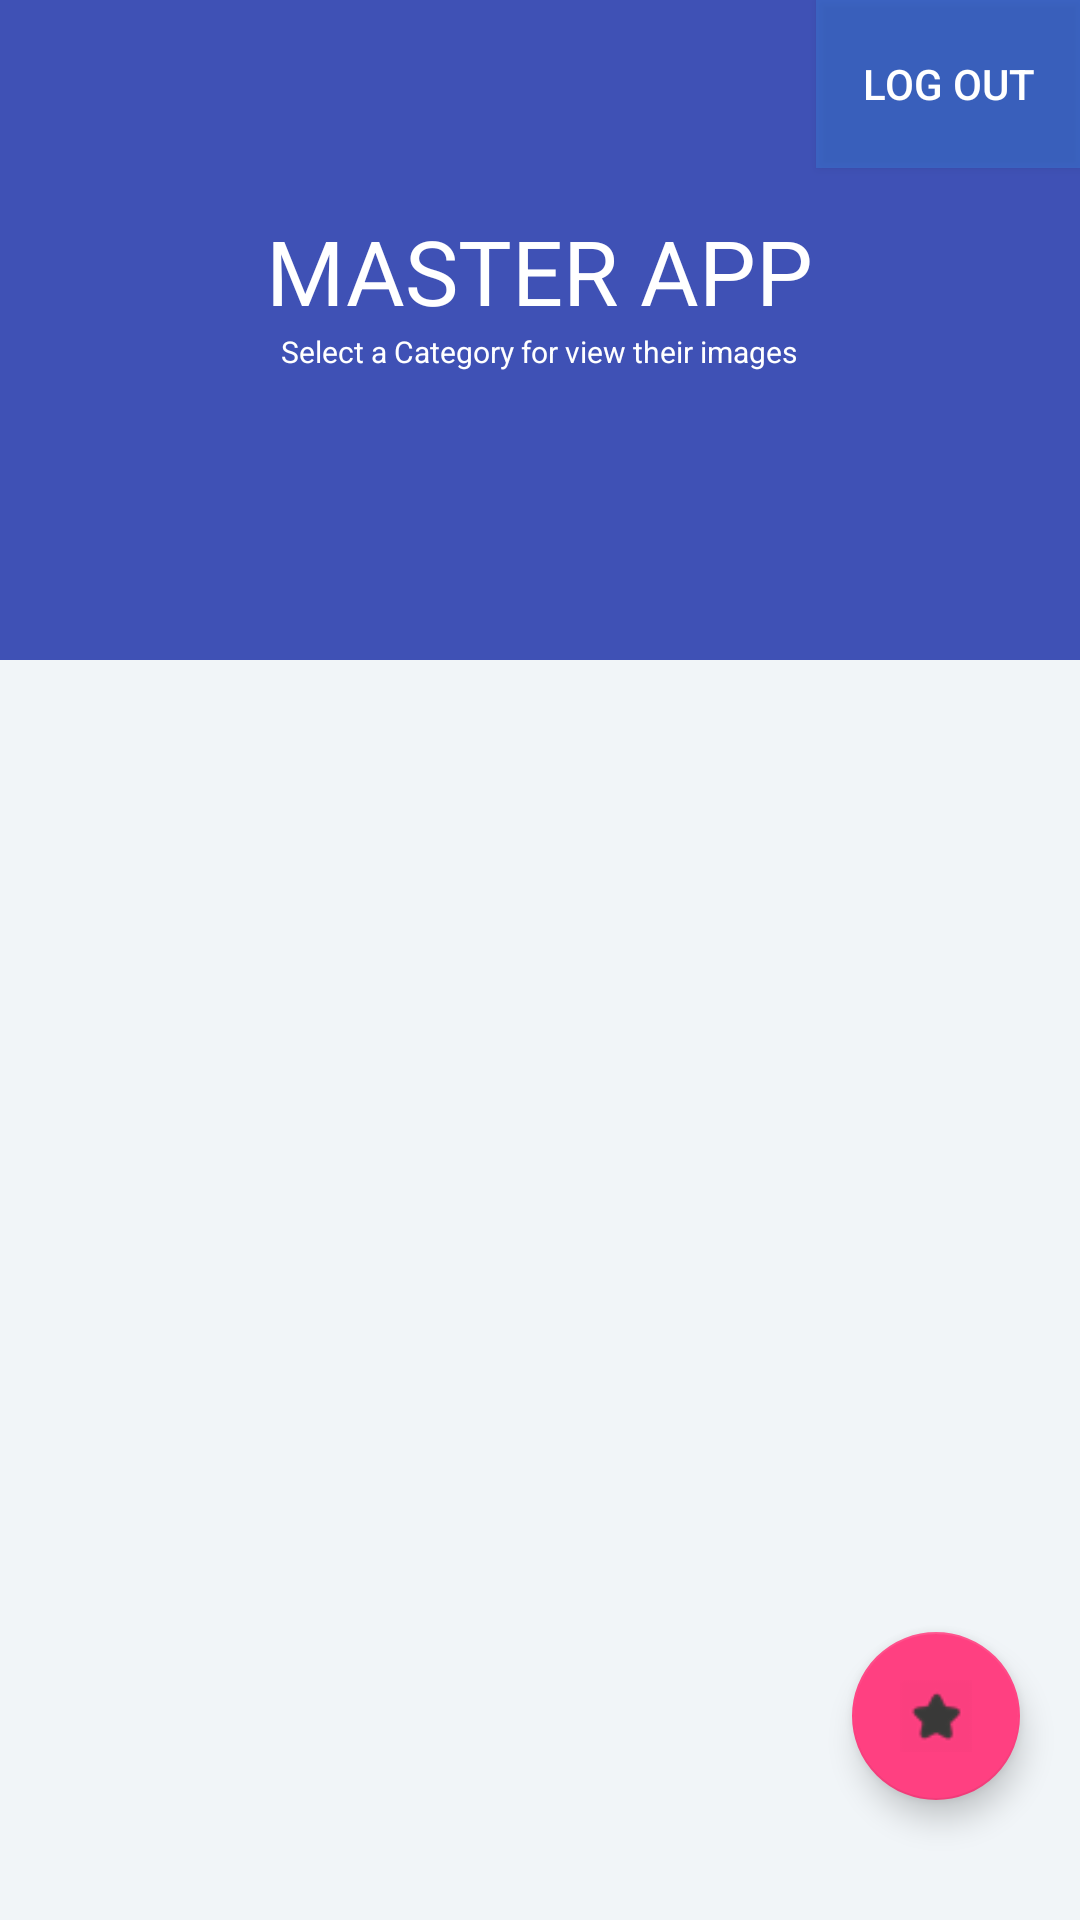

Point at icon controls on the screen. Image size 1080 x 1920, points as (x=x, y=y).
star: (x=936, y=1716)
